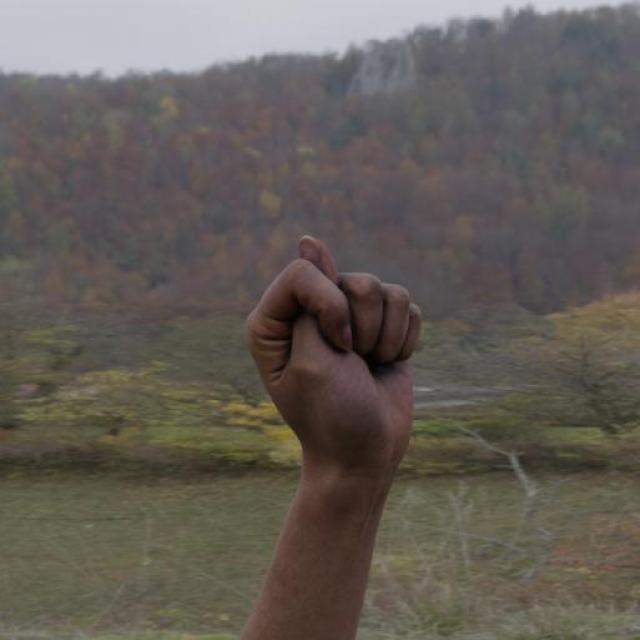T: (239, 231, 426, 475)
